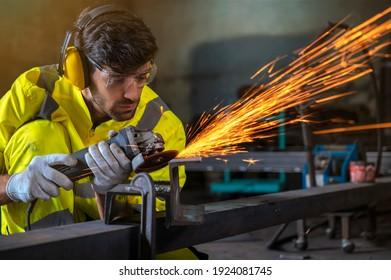gloves: (4, 154, 77, 204), (74, 139, 132, 199)
